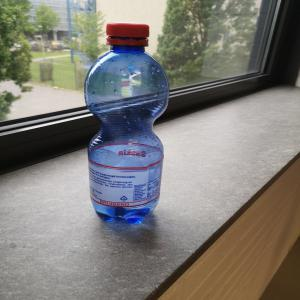Plastic-bottle: (84, 23, 171, 226)
